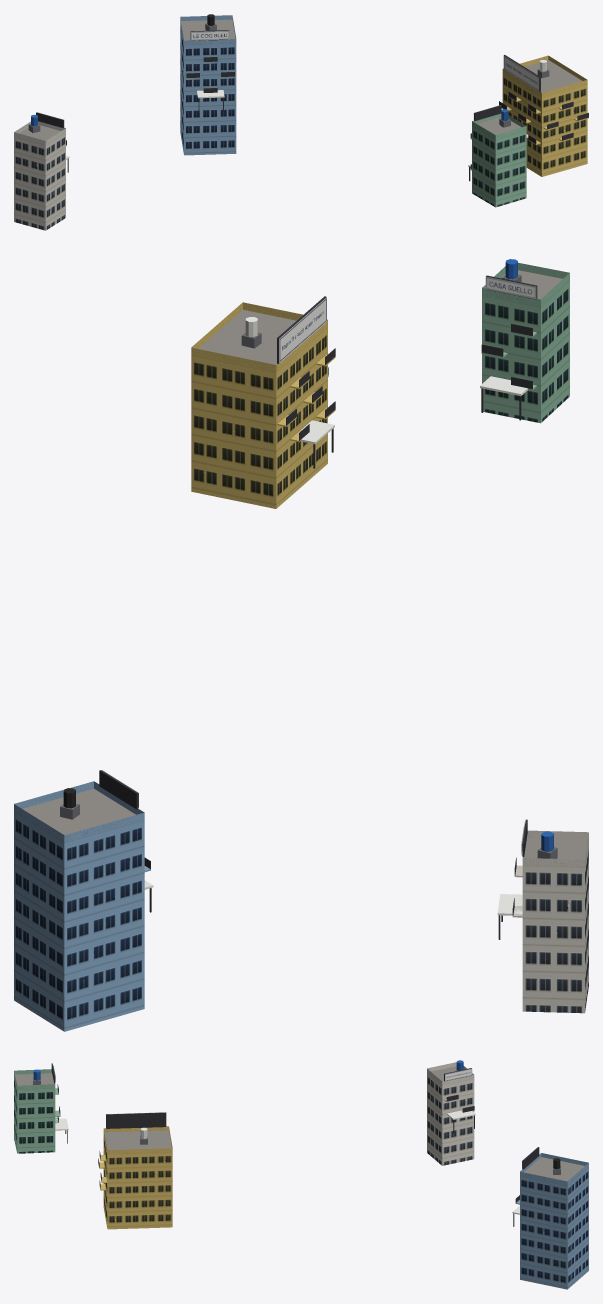
File: hotels-27358-14870.782138a0.glb
3 renders of one model, top to bottom at view 1: azimuth 30°, elevation 25°; view 2: azimuth 150°, elevation 25°; view 3: azimuth 270°, elevation 25°, orthographic. The views are drawn at different scales.
Bounding box in the file's own units: 83.53 × 47.01 × 114.
Materials: 4 (2 with a texture image).
